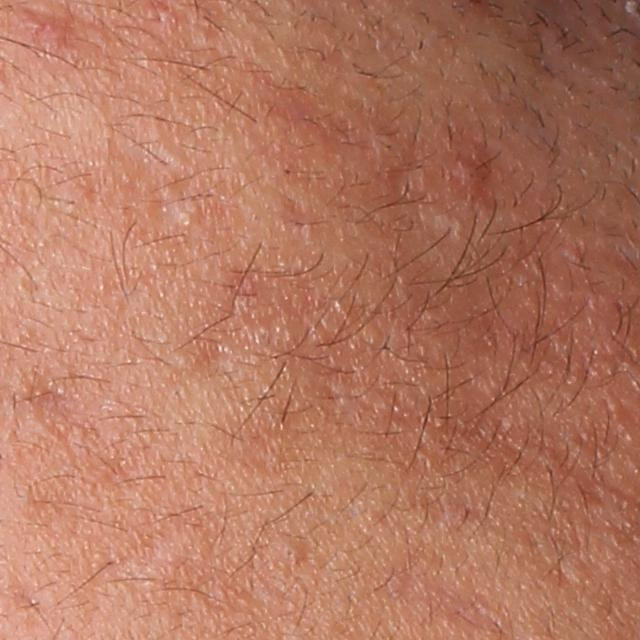comedo: (280, 540, 303, 565)
papule: (20, 4, 75, 47)
